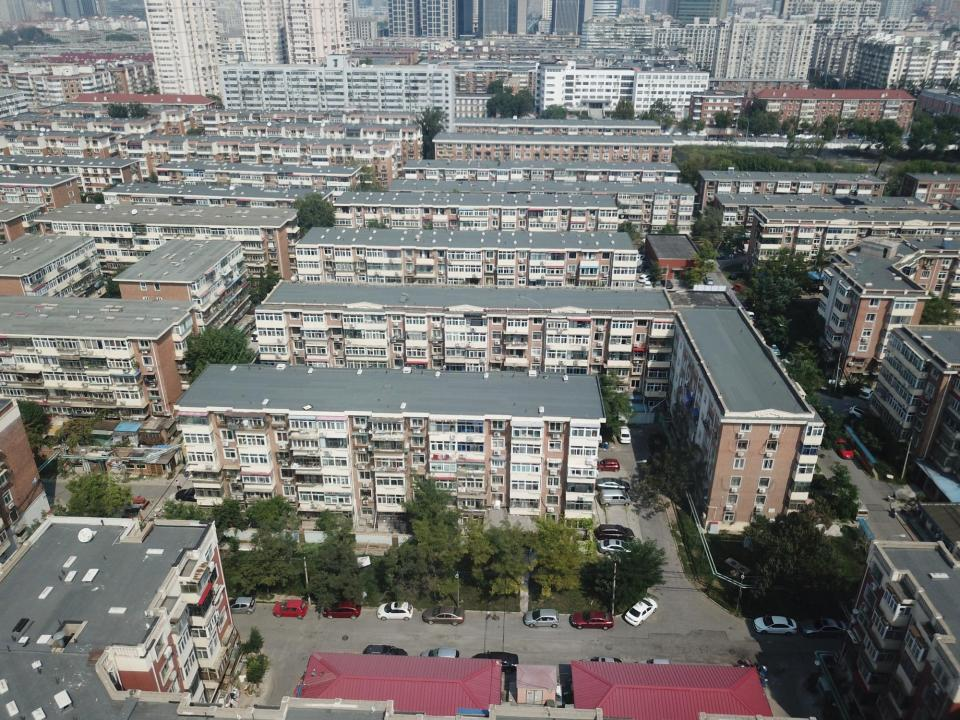bus: (706, 133, 734, 142)
car: (472, 650, 519, 673), (800, 618, 848, 639), (624, 597, 658, 626), (753, 614, 797, 636), (361, 644, 408, 663), (570, 610, 614, 630), (578, 656, 625, 674), (420, 647, 462, 667), (422, 606, 465, 625), (322, 600, 361, 620), (174, 486, 212, 504), (524, 608, 560, 627), (599, 538, 637, 556), (376, 602, 413, 620), (272, 600, 308, 618), (635, 658, 672, 675), (224, 597, 256, 615), (595, 477, 630, 492), (833, 437, 854, 460), (848, 404, 874, 421), (850, 497, 868, 521), (594, 458, 620, 472), (780, 354, 805, 368), (616, 425, 632, 444), (742, 304, 756, 320), (858, 387, 874, 400), (638, 272, 655, 283), (732, 283, 749, 293), (767, 344, 781, 356), (251, 329, 262, 342), (661, 279, 674, 289), (635, 264, 649, 273), (631, 254, 646, 262), (730, 271, 742, 280), (654, 281, 663, 292), (703, 277, 714, 285), (644, 281, 652, 291), (697, 132, 707, 138), (687, 131, 696, 137), (660, 131, 670, 136), (673, 131, 682, 136)
van: (596, 524, 634, 542), (599, 489, 631, 507)
